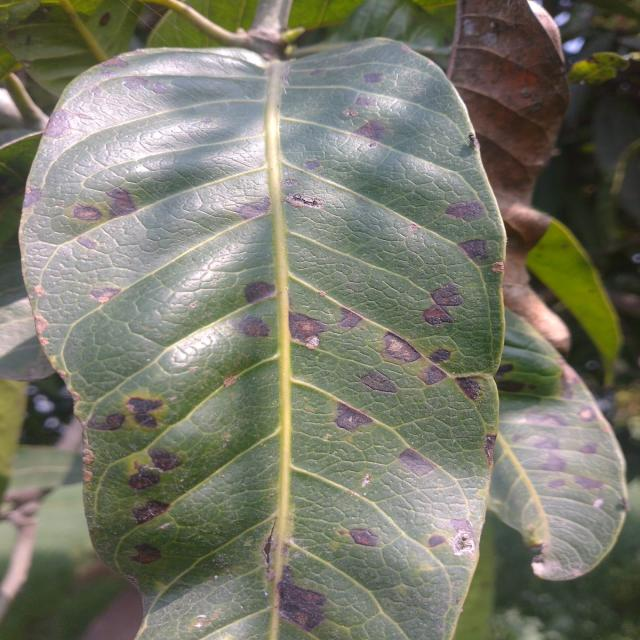Anthracnose: (356, 331, 473, 402), (119, 439, 191, 544), (238, 283, 351, 349), (274, 569, 329, 633), (428, 518, 478, 557), (245, 27, 289, 60), (288, 311, 330, 345), (124, 396, 167, 429), (379, 332, 423, 363), (126, 398, 164, 432), (334, 402, 374, 432), (397, 447, 437, 477), (44, 109, 82, 139), (532, 552, 570, 581), (104, 186, 138, 217), (0, 0, 42, 25), (130, 500, 170, 526), (358, 370, 399, 394), (567, 59, 606, 84), (443, 200, 485, 222), (607, 290, 640, 318), (234, 315, 272, 339), (147, 447, 182, 472), (429, 283, 464, 308), (456, 238, 492, 262), (127, 467, 163, 491), (232, 199, 271, 220), (290, 313, 325, 336), (262, 528, 283, 566), (353, 119, 389, 141), (243, 280, 276, 304), (454, 376, 484, 402), (521, 411, 566, 428), (87, 413, 127, 432), (285, 192, 325, 210), (129, 543, 163, 564), (422, 306, 454, 328), (590, 51, 629, 69), (337, 307, 364, 330), (419, 365, 448, 386), (538, 452, 567, 473), (348, 528, 379, 547), (72, 205, 104, 222), (571, 474, 605, 490), (90, 287, 121, 304), (593, 393, 614, 417), (23, 187, 44, 209), (449, 518, 474, 536), (495, 379, 527, 393), (98, 56, 130, 69), (191, 613, 218, 628), (73, 411, 88, 438), (123, 77, 151, 91), (483, 434, 496, 463), (428, 348, 452, 363), (463, 19, 481, 37), (531, 560, 549, 578), (528, 542, 547, 559), (425, 531, 447, 545), (34, 316, 50, 335), (148, 82, 171, 95), (249, 283, 276, 294), (426, 535, 447, 548), (353, 96, 377, 107), (77, 237, 97, 250), (579, 441, 599, 454), (363, 72, 384, 84), (82, 448, 95, 466), (465, 132, 478, 150), (547, 479, 568, 490), (280, 67, 292, 86), (578, 408, 595, 421), (303, 159, 323, 170), (305, 336, 320, 349), (44, 417, 60, 429), (98, 12, 111, 26), (490, 262, 505, 274), (82, 469, 94, 484), (585, 360, 601, 371), (223, 376, 238, 387), (282, 178, 300, 187), (341, 109, 359, 118), (592, 498, 605, 510), (619, 497, 630, 511), (90, 86, 104, 97), (265, 568, 276, 582), (361, 474, 372, 488), (34, 285, 45, 298), (520, 87, 532, 98), (310, 69, 326, 77), (69, 390, 80, 401), (409, 222, 421, 232), (558, 0, 572, 8), (39, 337, 50, 347), (200, 117, 213, 125), (367, 141, 380, 149), (57, 370, 67, 379), (631, 254, 640, 264), (317, 290, 327, 297), (188, 366, 199, 372), (489, 21, 496, 30), (194, 622, 203, 629), (189, 302, 197, 309), (196, 615, 207, 620), (347, 416, 354, 423), (264, 591, 270, 597)
